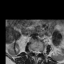CCS_normal: (35, 49, 37, 58)
LFS_normal: (39, 49, 41, 55)
LLS_normal: (37, 49, 39, 56)
RFS_normal: (31, 48, 33, 54)
RLS_normal: (33, 48, 35, 56)
